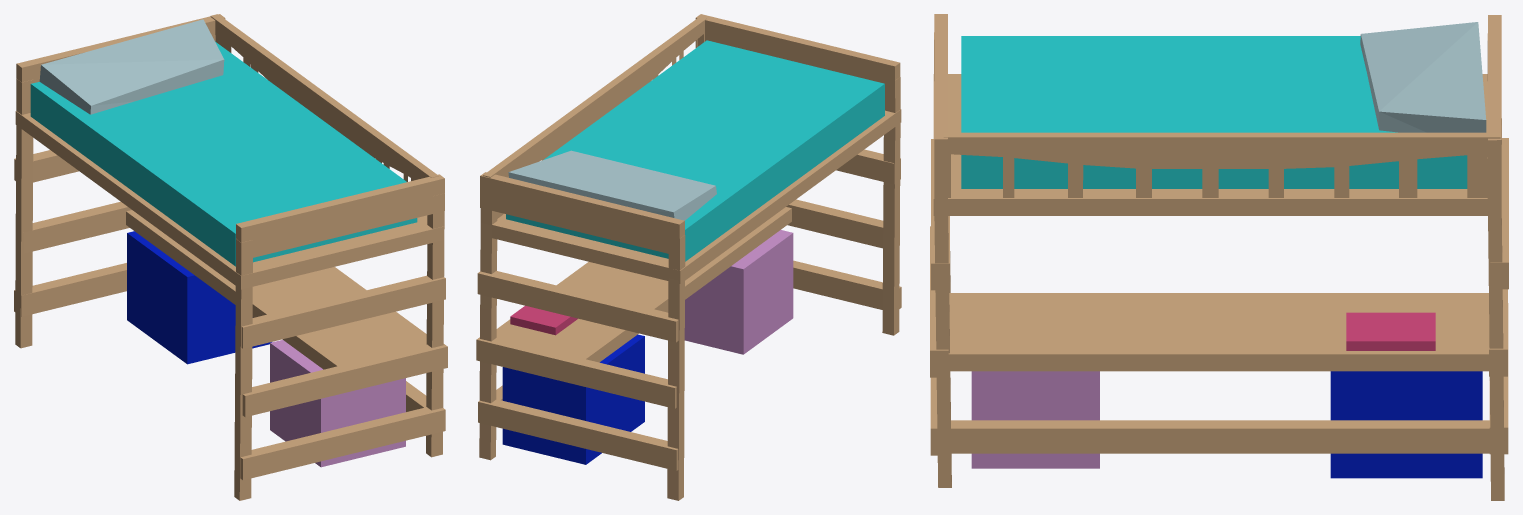
The model's file is colored-bed-2.dae.
3 renders of one model, left to right at view 1: azimuth 30°, elevation 25°; view 2: azimuth 150°, elevation 25°; view 3: azimuth 270°, elevation 25°, orthographic. The views are drawn at different scales.
Parts seen in each view (by area): view 1: Cube_001, Cube_003, Cube_012, Cube_004, Cube, Cube_010, Cube_006, Cube_007, Cube_008, Cube_011, Cube_005, Cube_002; view 2: Cube_001, Cube_002, Cube_011, Cube_003, Cube_004, Cube, Cube_007, Cube_006, Cube_010, Cube_012, Cube_008, Cube_005 (+1 smaller); view 3: Cube_001, Cube_004, Cube_005, Cube_009, Cube, Cube_012, Cube_010, Cube_011, Cube_002, Cube_003, Cube_013, Cube_008 (+2 smaller).
Boxes of the visible parts, x1=… form: Cube_001: x1=30, y1=41, x2=417, y2=266; Cube_003: x1=234, y1=174, x2=444, y2=500; Cube_012: x1=39, y1=19, x2=224, y2=114; Cube_004: x1=126, y1=210, x2=426, y2=369; Cube: x1=15, y1=111, x2=444, y2=289; Cube_010: x1=127, y1=231, x2=271, y2=364; Cube_006: x1=14, y1=263, x2=445, y2=480; Cube_007: x1=23, y1=201, x2=447, y2=417; Cube_008: x1=14, y1=150, x2=445, y2=348; Cube_011: x1=270, y1=340, x2=405, y2=467; Cube_005: x1=210, y1=14, x2=438, y2=181; Cube_002: x1=15, y1=14, x2=225, y2=348; Cube_001: x1=506, y1=40, x2=884, y2=261; Cube_002: x1=479, y1=172, x2=685, y2=500; Cube_011: x1=684, y1=230, x2=793, y2=354; Cube_003: x1=695, y1=14, x2=900, y2=335; Cube_004: x1=496, y1=207, x2=791, y2=362; Cube: x1=492, y1=109, x2=901, y2=283; Cube_007: x1=476, y1=199, x2=899, y2=408; Cube_006: x1=478, y1=260, x2=901, y2=470; Cube_010: x1=502, y1=334, x2=644, y2=464; Cube_012: x1=508, y1=150, x2=716, y2=220; Cube_008: x1=477, y1=149, x2=900, y2=342; Cube_005: x1=483, y1=16, x2=706, y2=218; Cube_001: x1=961, y1=36, x2=1467, y2=188; Cube_004: x1=948, y1=293, x2=1488, y2=371; Cube_005: x1=943, y1=132, x2=1500, y2=197; Cube_009: x1=951, y1=420, x2=1489, y2=453; Cube: x1=933, y1=74, x2=1487, y2=215; Cube_012: x1=1360, y1=22, x2=1486, y2=132; Cube_010: x1=1330, y1=371, x2=1482, y2=478; Cube_011: x1=971, y1=371, x2=1099, y2=468; Cube_002: x1=1487, y1=15, x2=1504, y2=500; Cube_003: x1=934, y1=14, x2=951, y2=487; Cube_013: x1=1346, y1=312, x2=1435, y2=350; Cube_008: x1=931, y1=138, x2=1508, y2=290.
Size of the model in its own units: 1.41 by 2.73 by 1.91.
